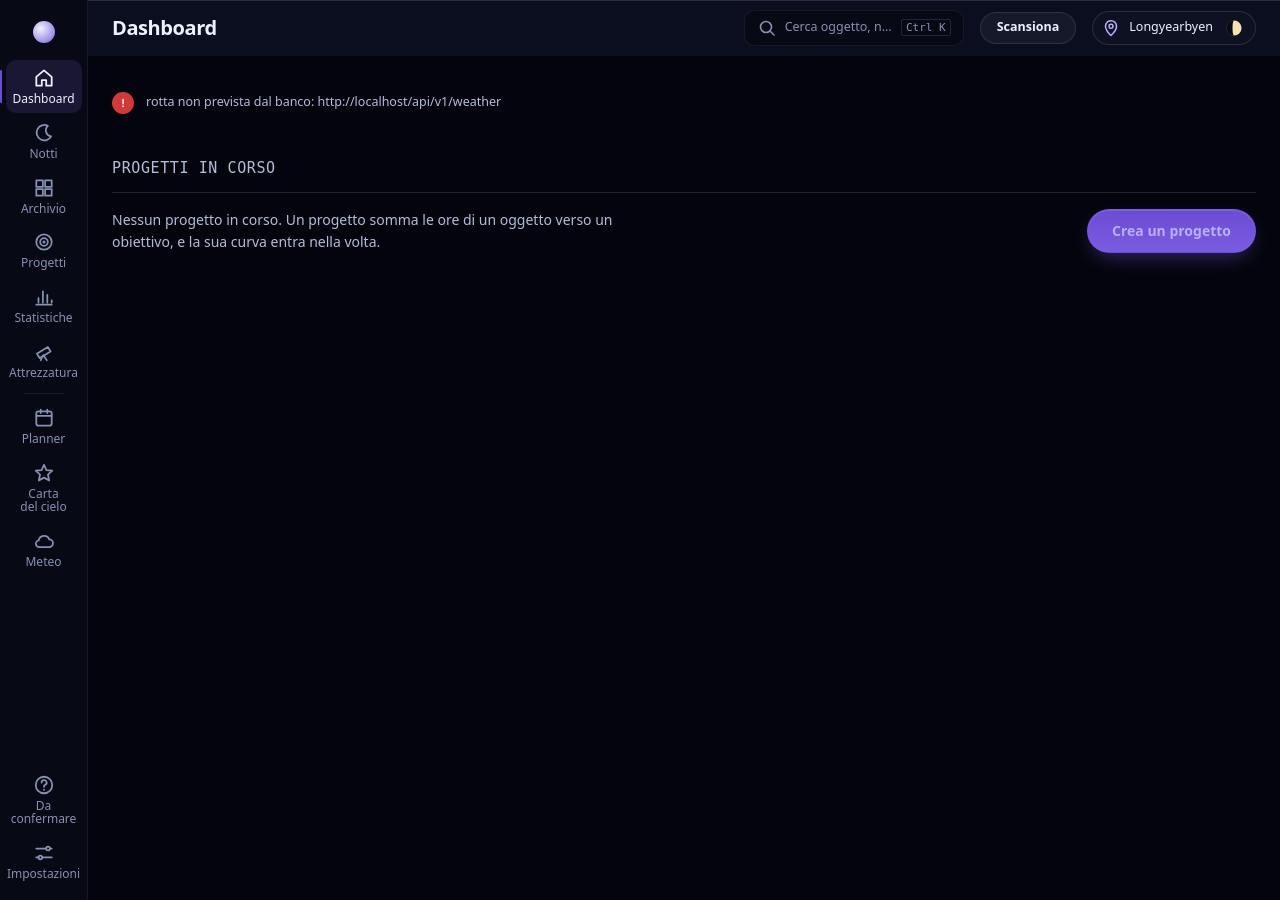
Test: il pannello di Stanotte › una luna che non sorge lo dice a parole
What coordinates should you click on to do the following:
click the button with aria-label "stanotte a longyearbyen"
I would click on:
 (1174, 28)
Its box is [1092,10,1256,44].
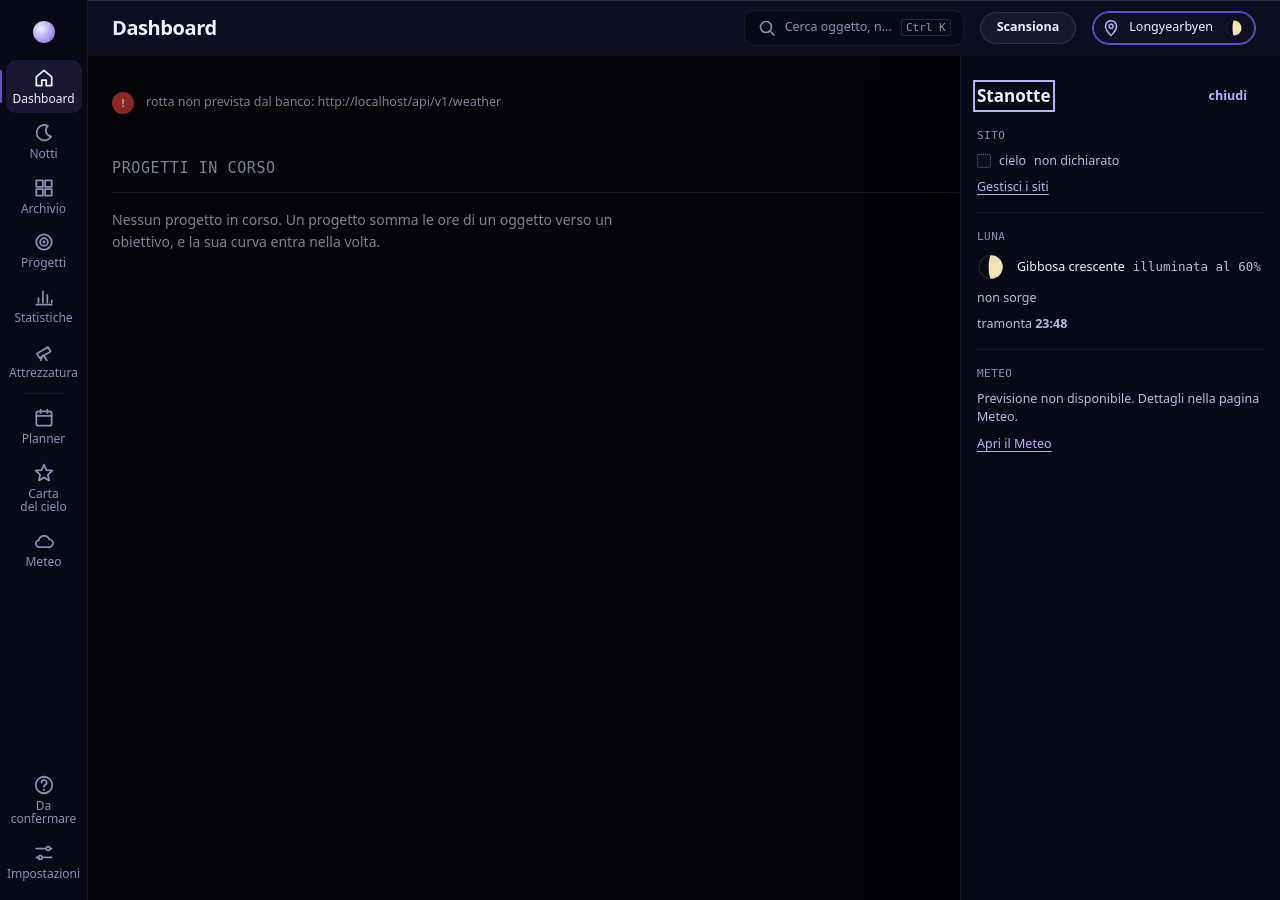
Now the text "non sorge" is shown, box [977,289,1037,306]
